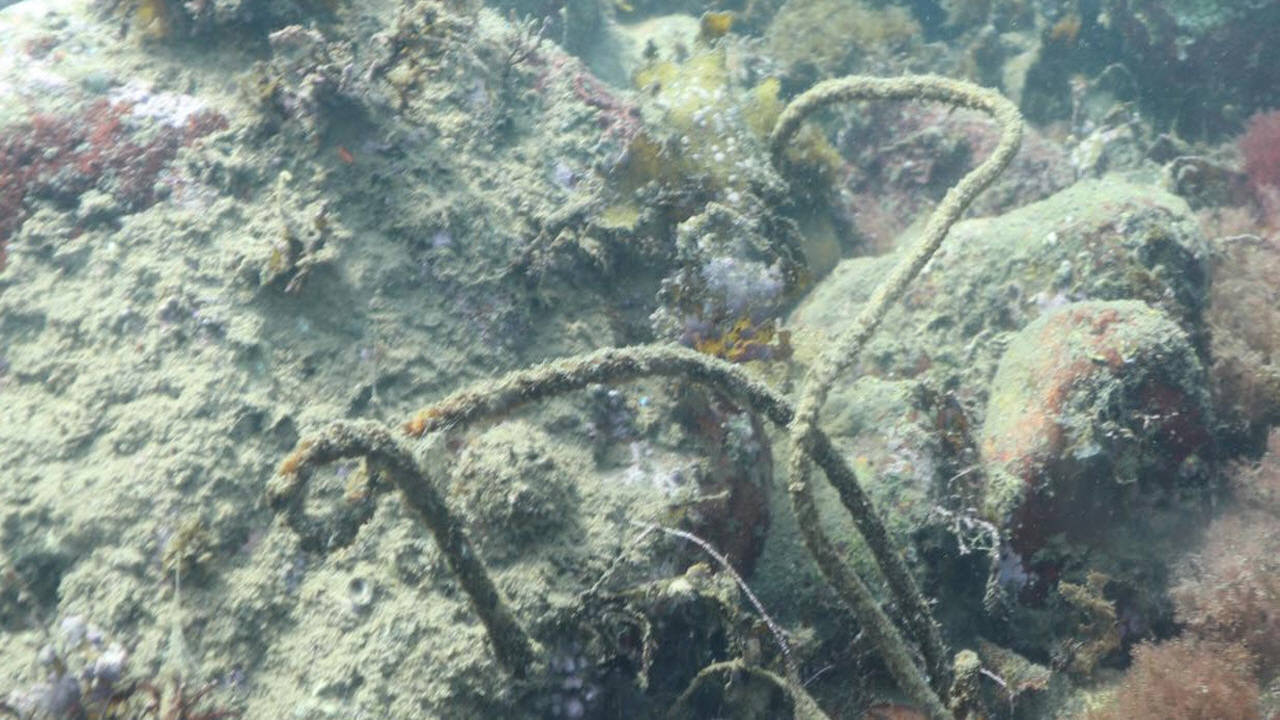bundle of ropes: (262, 72, 1023, 720)
